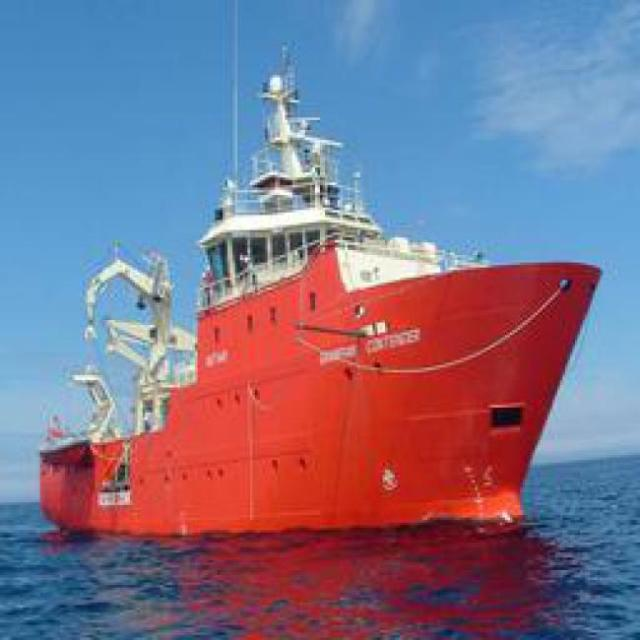boat: (37, 230, 595, 538)
